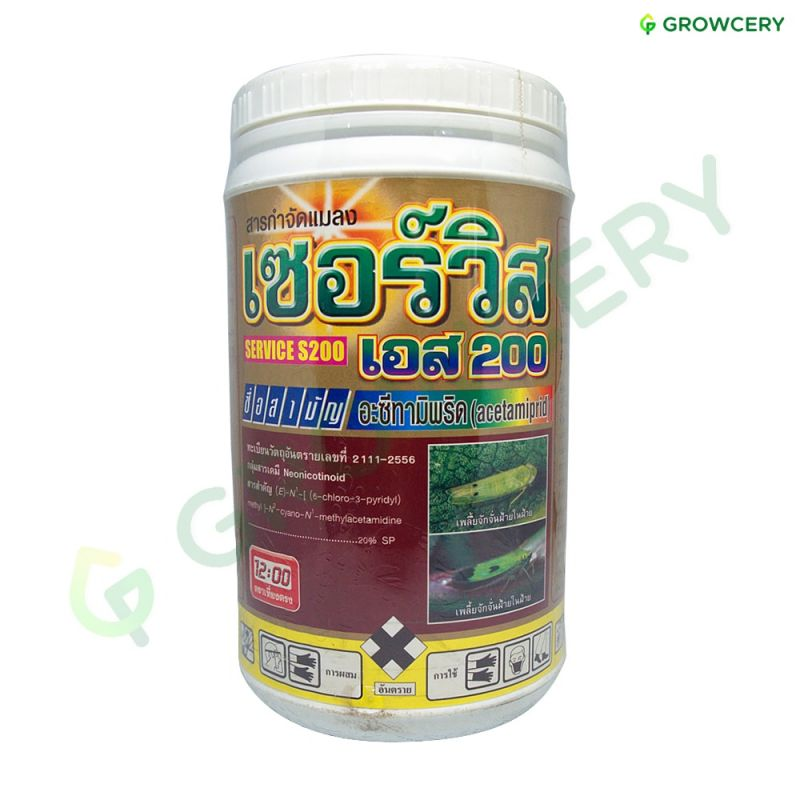Insecticide: (216, 45, 584, 750)
